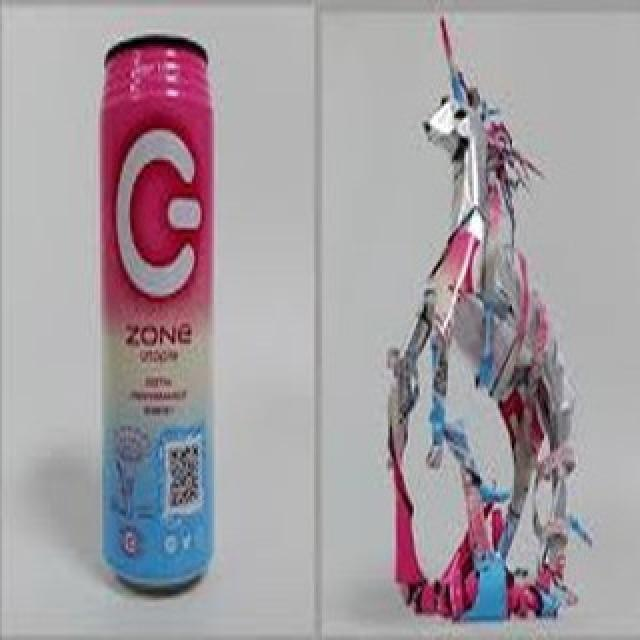recyclable: (99, 32, 216, 598)
